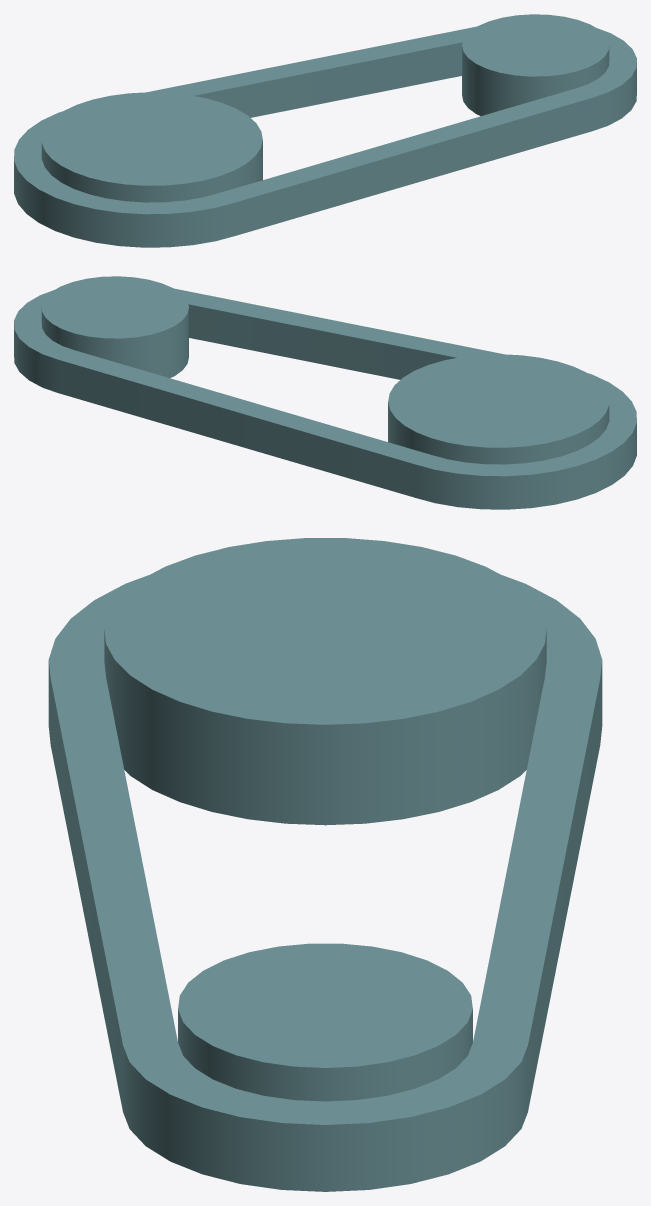
Rendered from profiles_wrap.glb.
3 views of the same model, one above another, from view 1: azimuth 30°, elevation 25°; view 2: azimuth 150°, elevation 25°; view 3: azimuth 270°, elevation 25° (orthographic). The views are drawn at different scales.
Parts seen in each view (by area): view 1: belt; view 2: belt; view 3: belt.
Part boxes in pixels (bbox=[...]): belt: bbox=[14, 14, 636, 247]; belt: bbox=[14, 276, 636, 509]; belt: bbox=[48, 538, 602, 1191].
Size of the model in its own units: 0.074 by 0.006 by 0.03.
